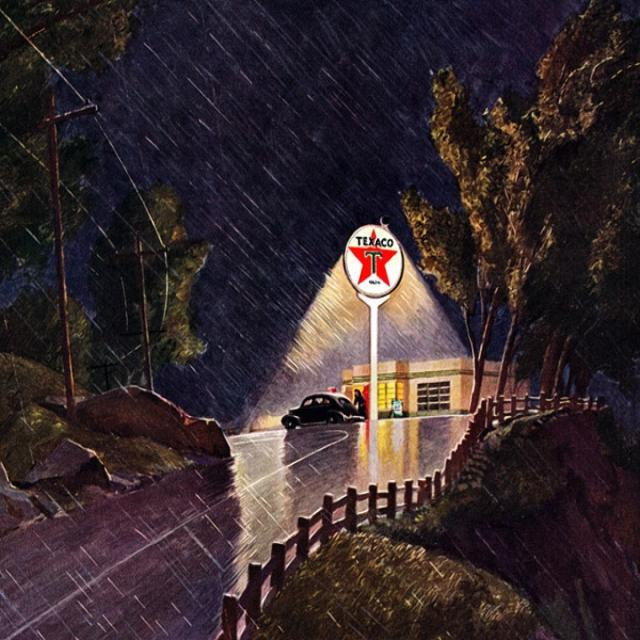texaco: (347, 225, 404, 299)
